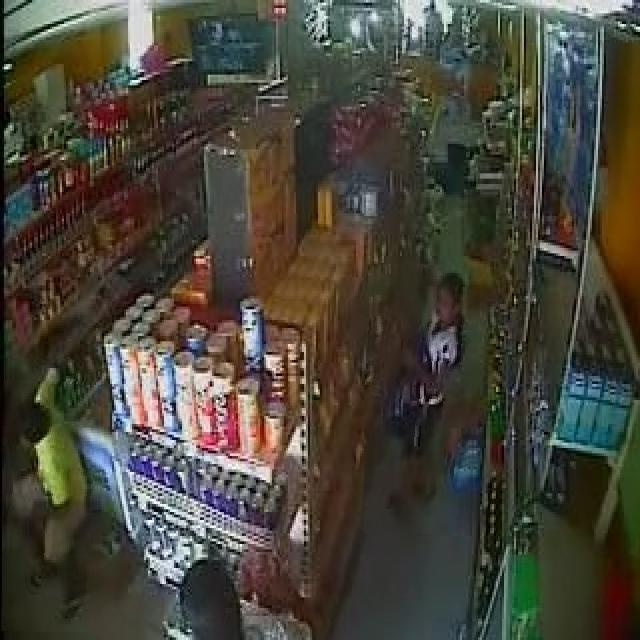normal: (364, 264, 478, 536), (2, 359, 101, 632)
